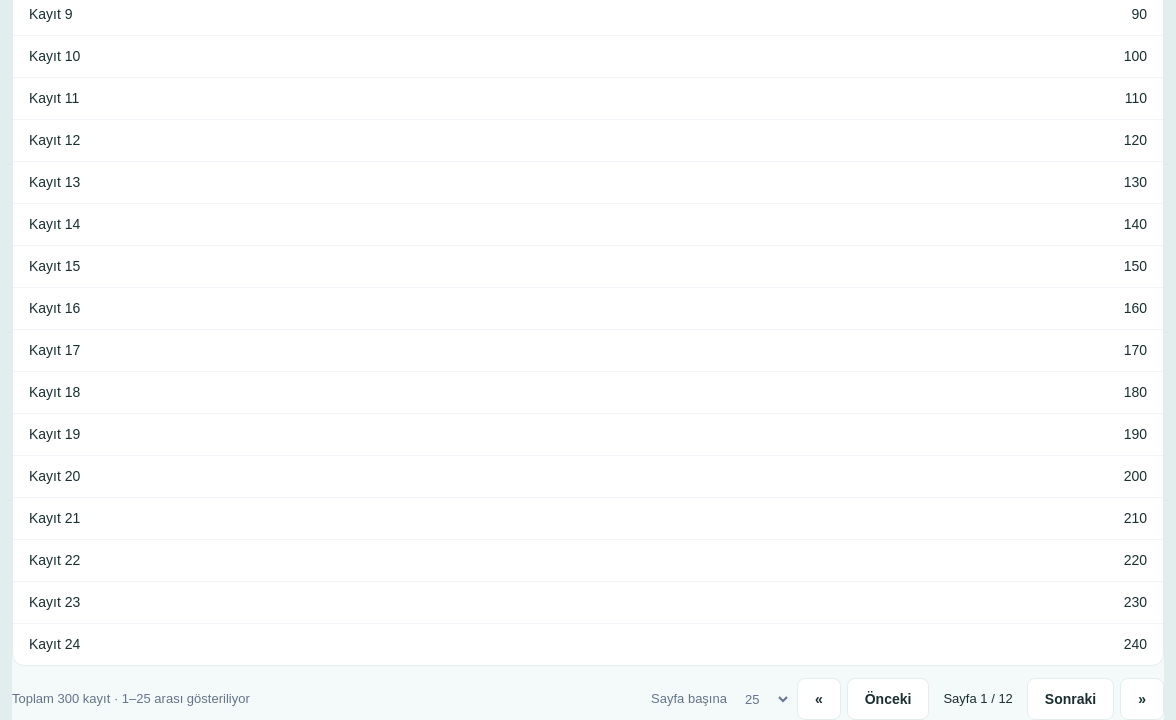
DataTable — istemci kipi › sayfa boyutu değişince sayfa 1'e döner
(page scrolled)
Click the button "Sonraki": (1070, 699) 1027,678 -> 1114,719
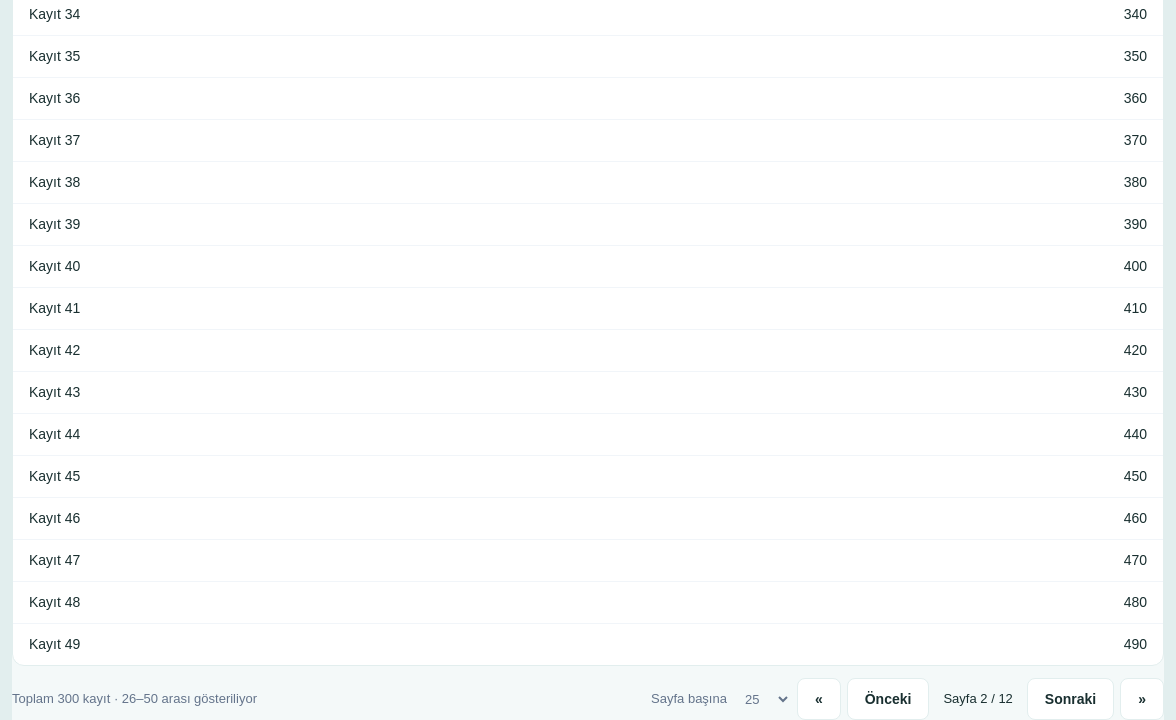
Result: the text "Sayfa 2 / 12" is shown at 943,691 -> 1013,706
Select "100" in the dropdown named "Sayfa başına kayıt": (762, 699) 733,686 -> 791,712
(page scrolled)
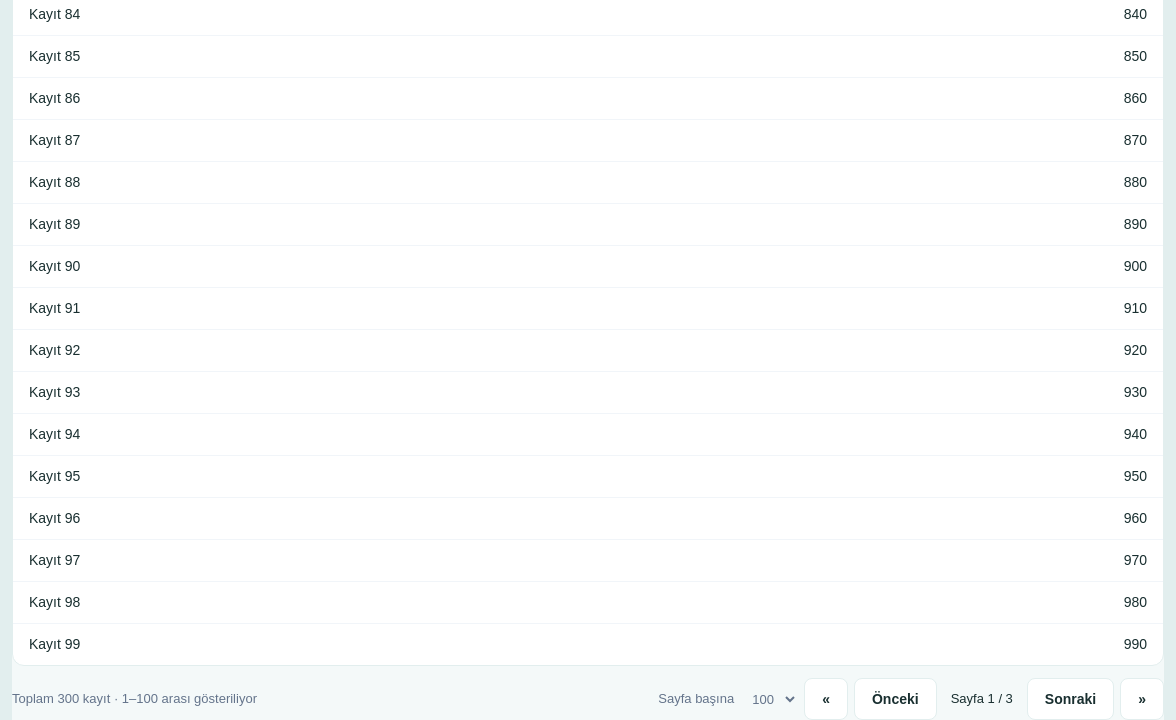
Result: the text "Sayfa 1 / 3" is shown at 951,691 -> 1013,706
